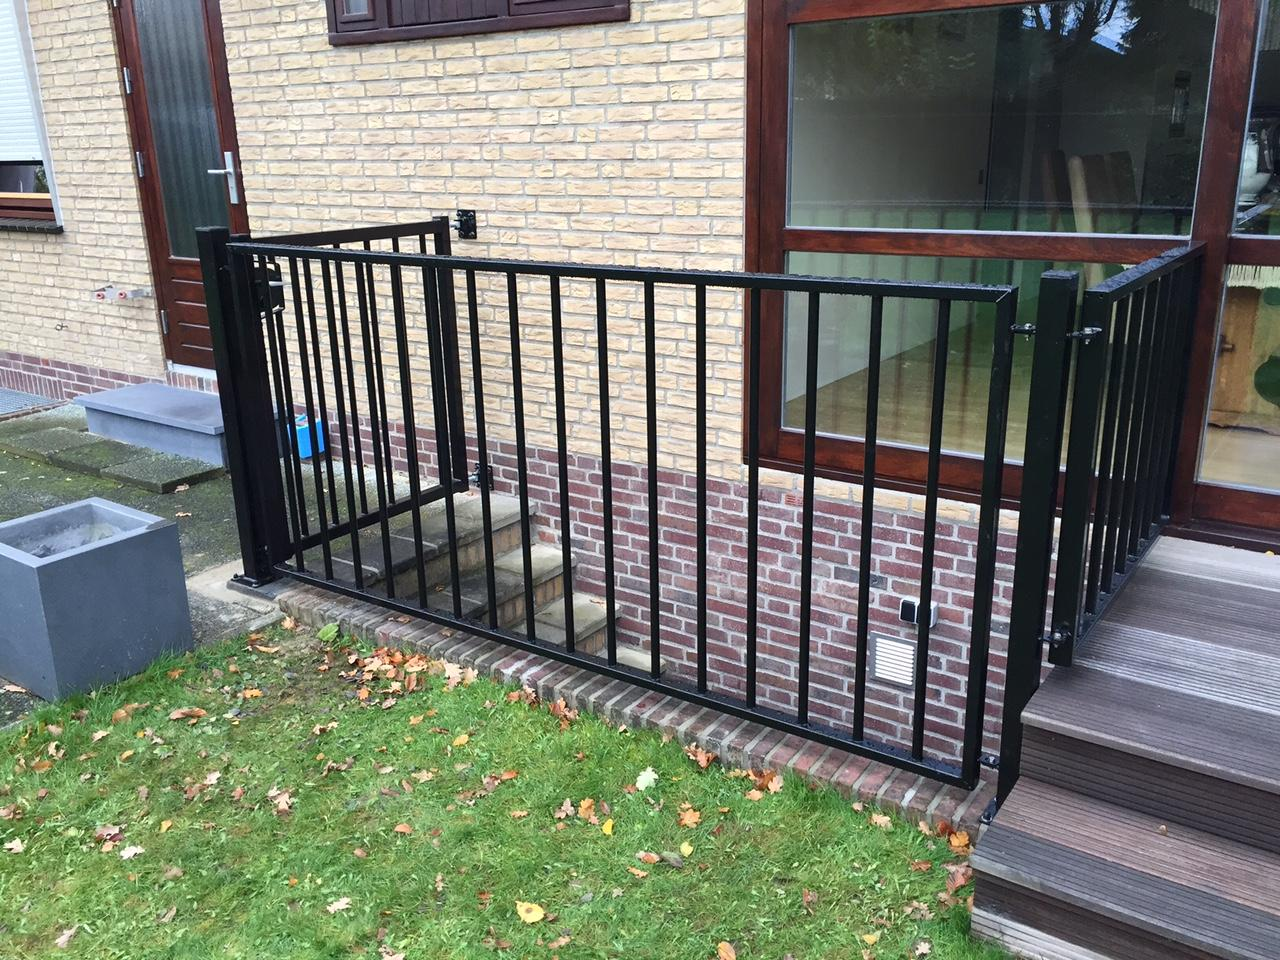obstacle: (310, 0, 1280, 953)
